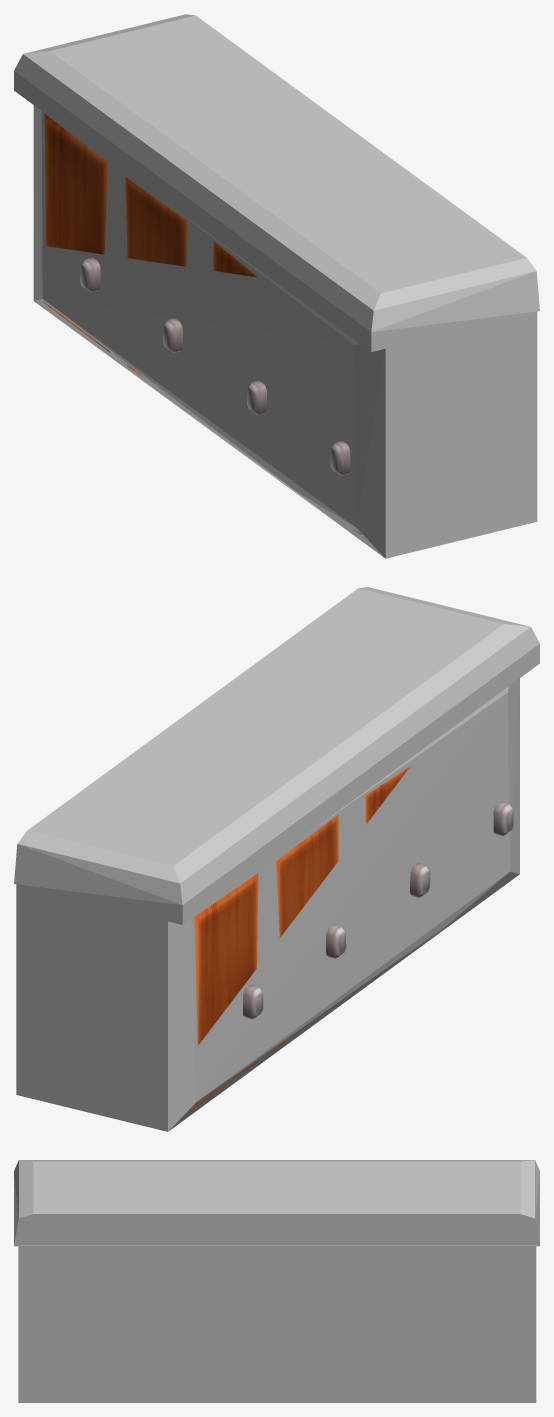
Rendered from SM_WritingDesk01_2.fbx.
3 renders of one model, top to bottom at view 1: azimuth 30°, elevation 25°; view 2: azimuth 150°, elevation 25°; view 3: azimuth 270°, elevation 25°, orthographic. The views are drawn at different scales.
Parts seen in each view (by area): view 1: SM_WritingDesk01_2_ConvexHulls, SM_WritingDesk01_2; view 2: SM_WritingDesk01_2_ConvexHulls, SM_WritingDesk01_2; view 3: SM_WritingDesk01_2_ConvexHulls.
Boxes of the visible parts, x1,y1,x2,y2 form: SM_WritingDesk01_2_ConvexHulls: (14, 14, 539, 558); SM_WritingDesk01_2: (43, 114, 361, 534); SM_WritingDesk01_2_ConvexHulls: (14, 587, 539, 1131); SM_WritingDesk01_2: (190, 766, 513, 1109); SM_WritingDesk01_2_ConvexHulls: (14, 1160, 539, 1402).
Size of the model in its own units: 41.35 by 149 by 58.89.
Materials: 2 (1 with a texture image).
